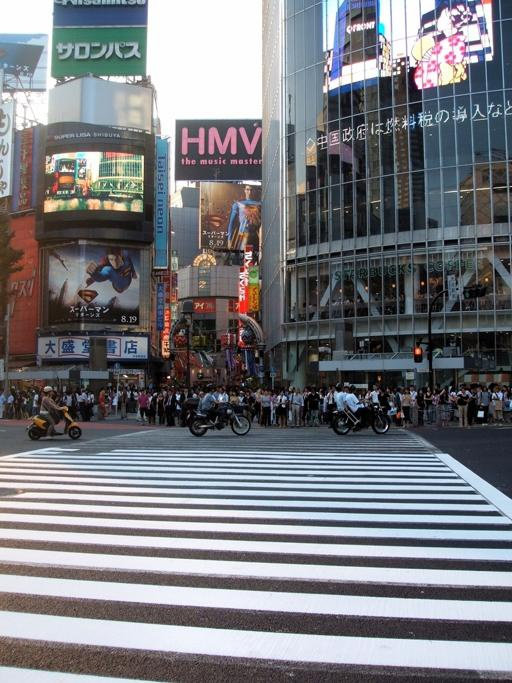non-vehicle: (182, 397, 250, 435), (329, 395, 390, 435), (24, 398, 82, 440)
